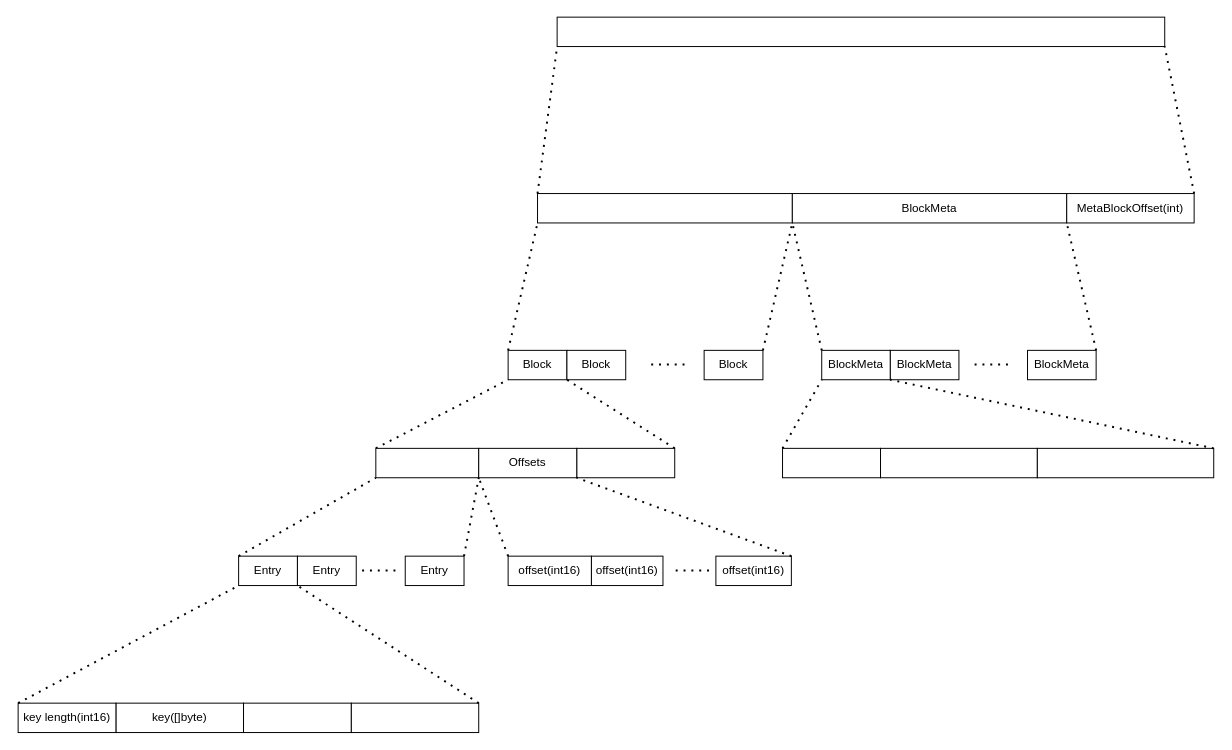
The diagram is 1232 pixels wide and 750 high, and some of its shapes have lost their labels. Each missing label, with the centre of its shape:
BlockFirstKey length(int16): [958,462]
BlockFisrtKeyValue([]byte): [1125,462]
BlockOffset(int16): [831,462]
Blocks: [664,208]
Entries: [427,462]
EntryNum(int16): [625,462]
tabe: [860,31]
value length(int16): [297,717]
value([]byte): [414,717]
